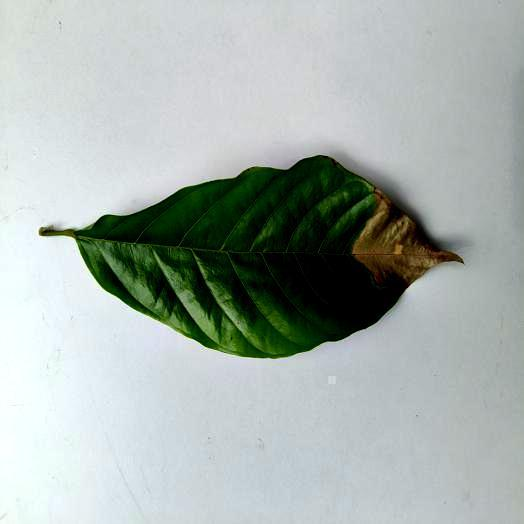Potassium: (42, 156, 459, 357)
